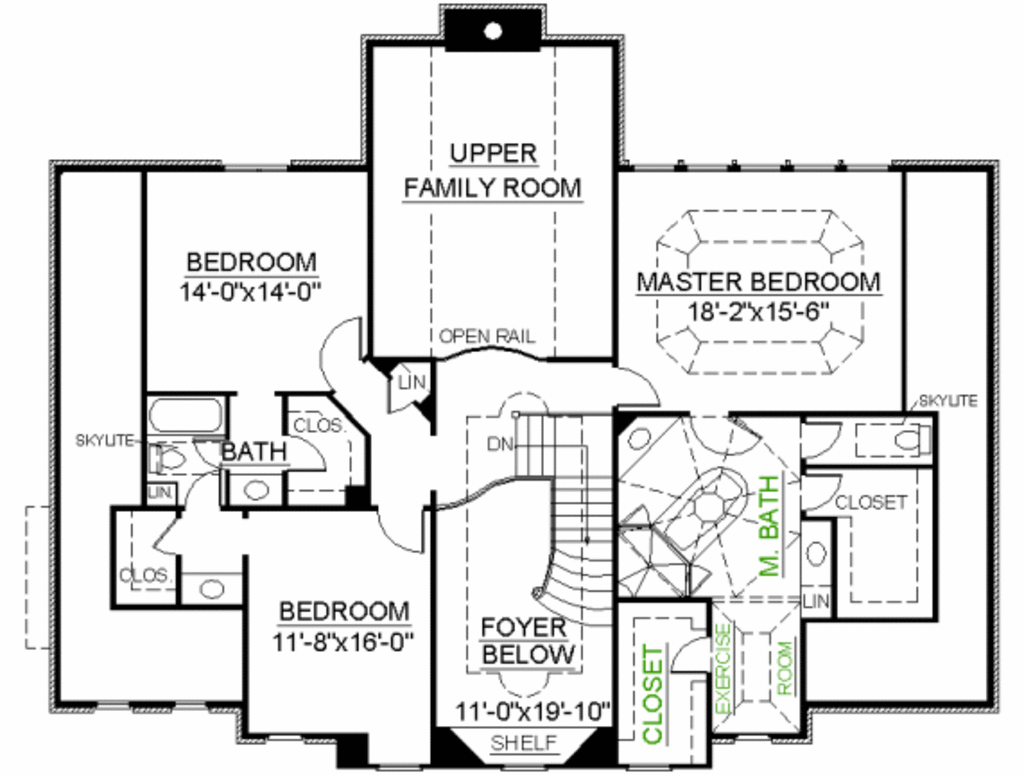door: (684, 407, 762, 463), (372, 502, 431, 561), (320, 315, 365, 392), (607, 364, 665, 414), (795, 414, 843, 461), (283, 434, 331, 476), (799, 473, 845, 515), (181, 467, 226, 508), (670, 637, 716, 676), (380, 374, 417, 417), (153, 514, 187, 556)
large_sink: (886, 422, 939, 458), (149, 437, 188, 478)
small_sink: (175, 569, 246, 610), (797, 519, 831, 587), (615, 414, 661, 464), (227, 473, 282, 509)
stairs: (506, 408, 619, 626)
tub: (661, 467, 745, 545), (148, 394, 228, 439)
window: (215, 152, 300, 176), (256, 730, 310, 748), (89, 697, 137, 717), (167, 697, 211, 716), (731, 731, 778, 747)
